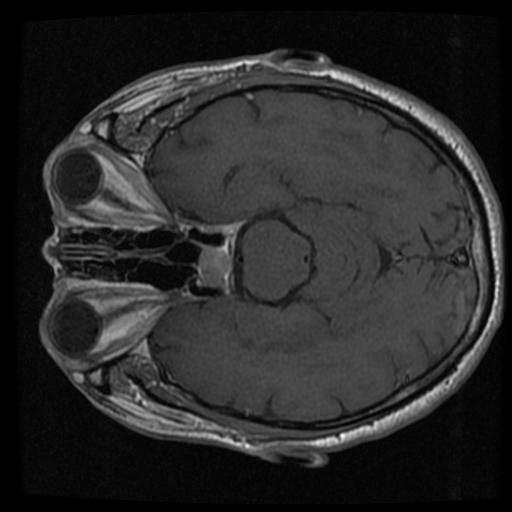pituitary tumour: (197, 246, 233, 287)
